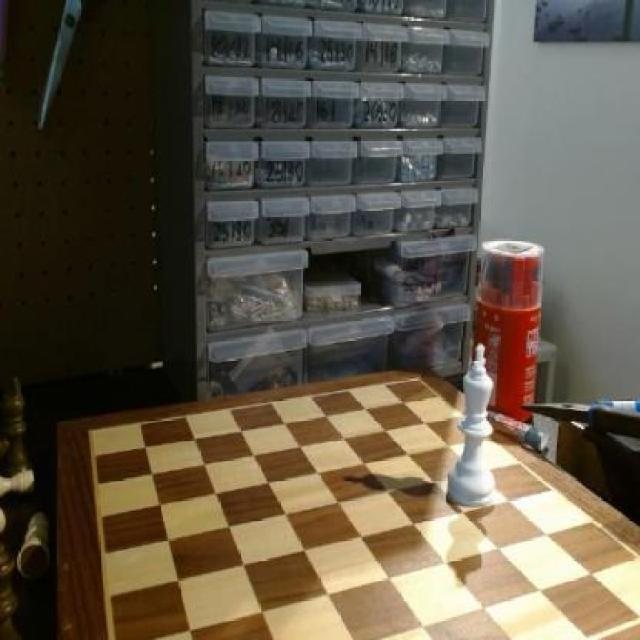white-bishop: (448, 338, 502, 506)
